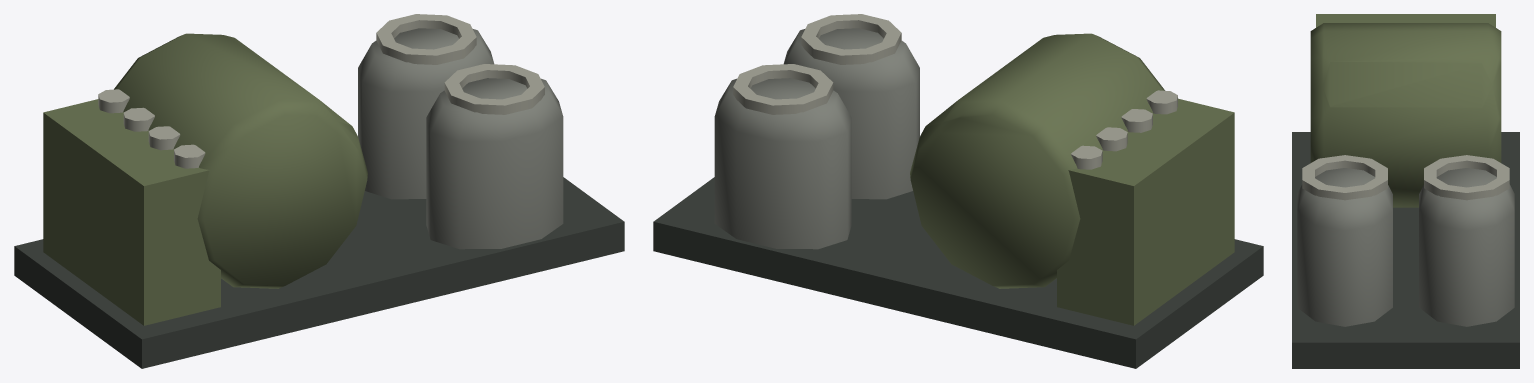
The model's file is electroharvester.obj.
3 renders of one model, left to right at view 1: azimuth 30°, elevation 25°; view 2: azimuth 150°, elevation 25°; view 3: azimuth 270°, elevation 25°, orthographic. The views are drawn at different scales.
Parts seen in each view (by area): view 1: source_component_001, source_component_000, source_component_002, source_component_007, source_component_009, source_component_008, source_component_010, source_component_006, source_component_004, source_component_005, source_component_003; view 2: source_component_001, source_component_000, source_component_002, source_component_009, source_component_007, source_component_010, source_component_008, source_component_003, source_component_006, source_component_004, source_component_005; view 3: source_component_001, source_component_000, source_component_007, source_component_009, source_component_008, source_component_010, source_component_002.
Part boxes in pixels (x1=…): source_component_001: x1=114, y1=33, x2=367, y2=288; source_component_000: x1=14, y1=177, x2=624, y2=368; source_component_002: x1=43, y1=99, x2=220, y2=325; source_component_007: x1=426, y1=78, x2=563, y2=249; source_component_009: x1=358, y1=28, x2=494, y2=199; source_component_008: x1=444, y1=64, x2=544, y2=114; source_component_010: x1=376, y1=14, x2=476, y2=64; source_component_006: x1=98, y1=89, x2=129, y2=113; source_component_004: x1=148, y1=126, x2=180, y2=150; source_component_005: x1=123, y1=107, x2=154, y2=131; source_component_003: x1=174, y1=144, x2=205, y2=168; source_component_001: x1=910, y1=33, x2=1164, y2=288; source_component_000: x1=653, y1=177, x2=1263, y2=368; source_component_002: x1=1057, y1=98, x2=1234, y2=325; source_component_009: x1=714, y1=78, x2=851, y2=249; source_component_007: x1=783, y1=28, x2=919, y2=199; source_component_010: x1=733, y1=64, x2=833, y2=114; source_component_008: x1=801, y1=14, x2=901, y2=64; source_component_003: x1=1146, y1=90, x2=1177, y2=114; source_component_006: x1=1071, y1=145, x2=1102, y2=169; source_component_004: x1=1121, y1=109, x2=1152, y2=132; source_component_005: x1=1096, y1=127, x2=1127, y2=151; source_component_001: x1=1310, y1=23, x2=1501, y2=207; source_component_000: x1=1292, y1=132, x2=1519, y2=368; source_component_007: x1=1297, y1=168, x2=1392, y2=326; source_component_009: x1=1419, y1=168, x2=1514, y2=326; source_component_008: x1=1302, y1=155, x2=1387, y2=200; source_component_010: x1=1424, y1=155, x2=1509, y2=200; source_component_002: x1=1316, y1=14, x2=1495, y2=27.
Bounding box in the file's own units: 1.88 × 0.81 × 0.86.
